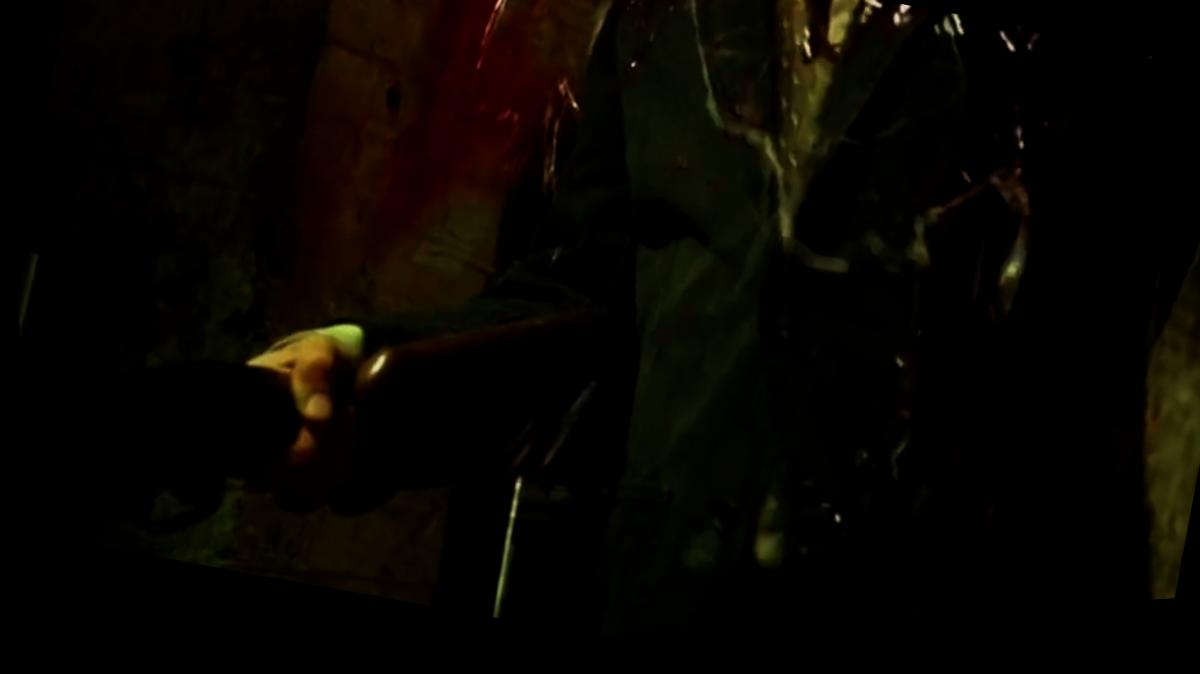Fire: (364, 0, 544, 317)
